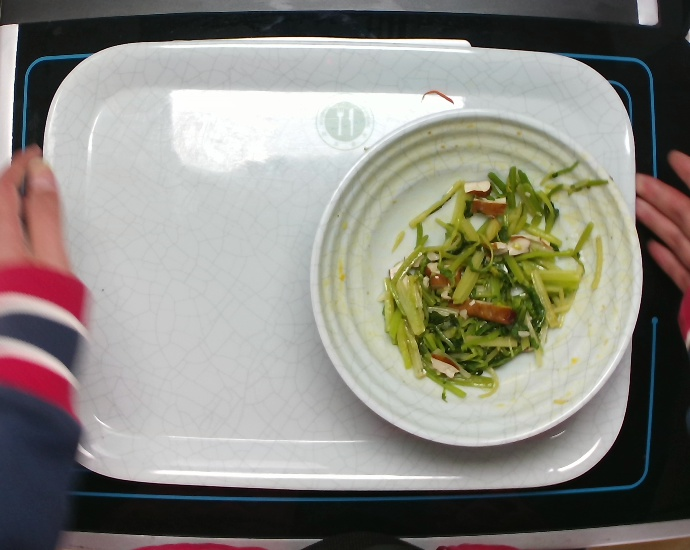JYsf-Da_Tang_Wan: (303, 105, 650, 457)
